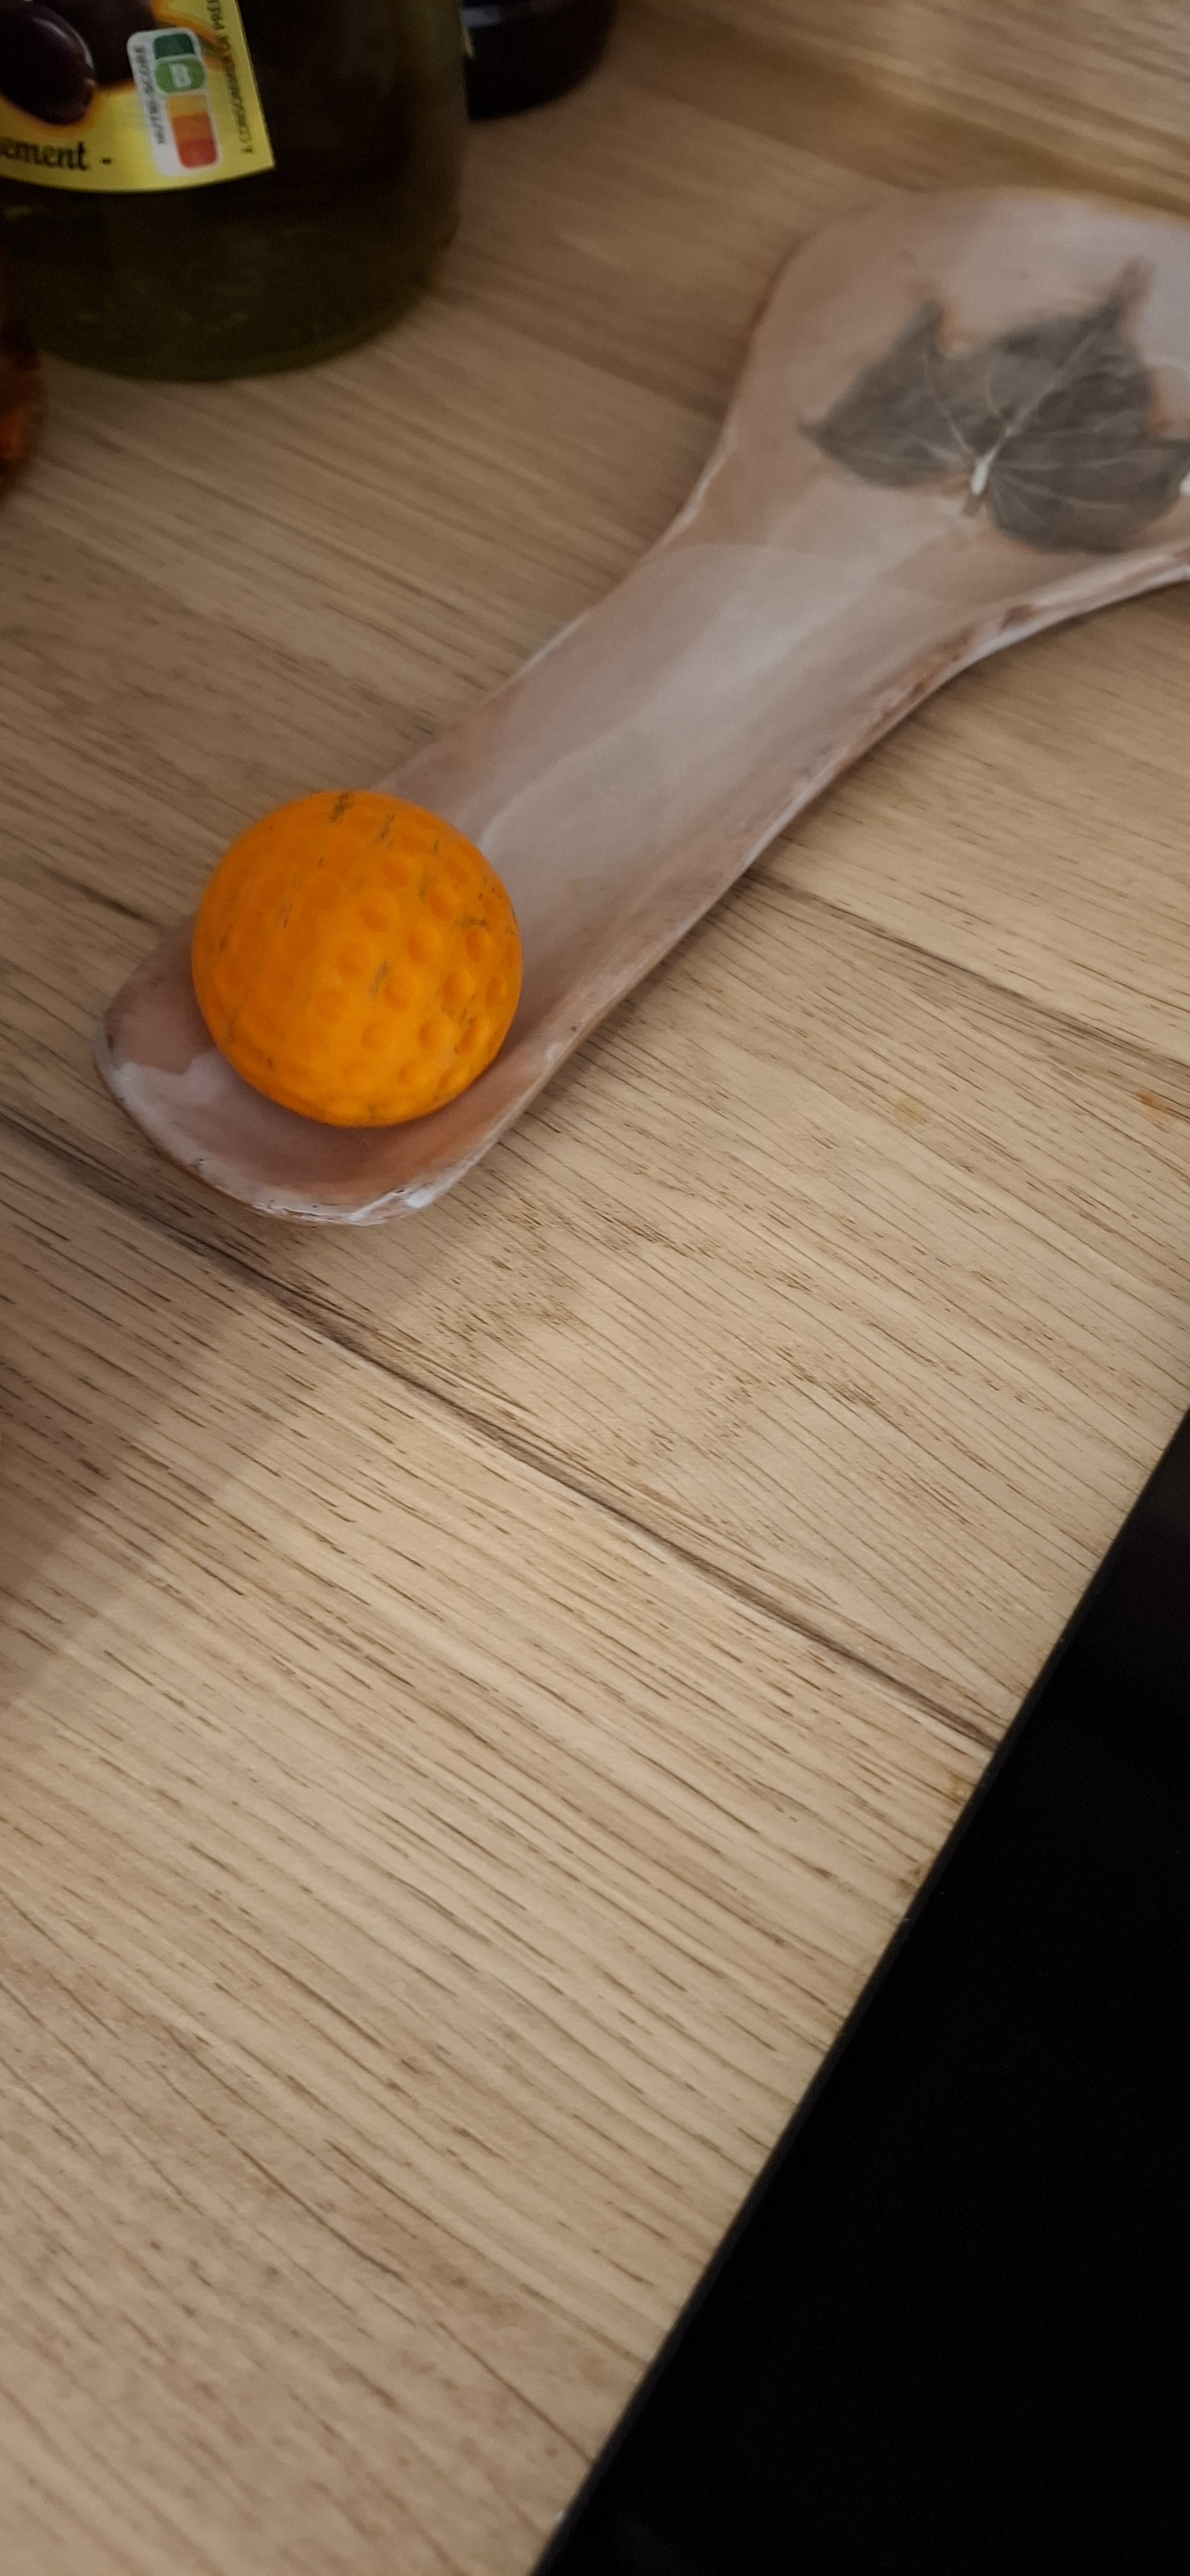ball: (367, 1418, 524, 2164)
